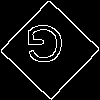G: (25, 25, 65, 72)
